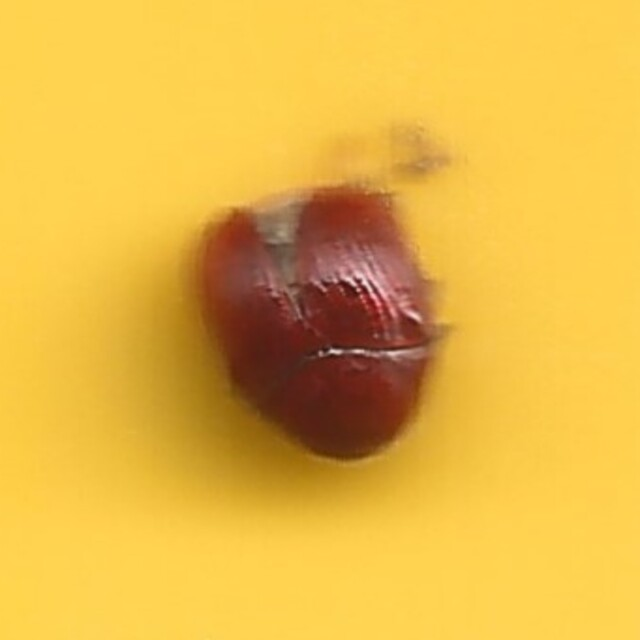Coleoptera: (188, 171, 452, 469)
